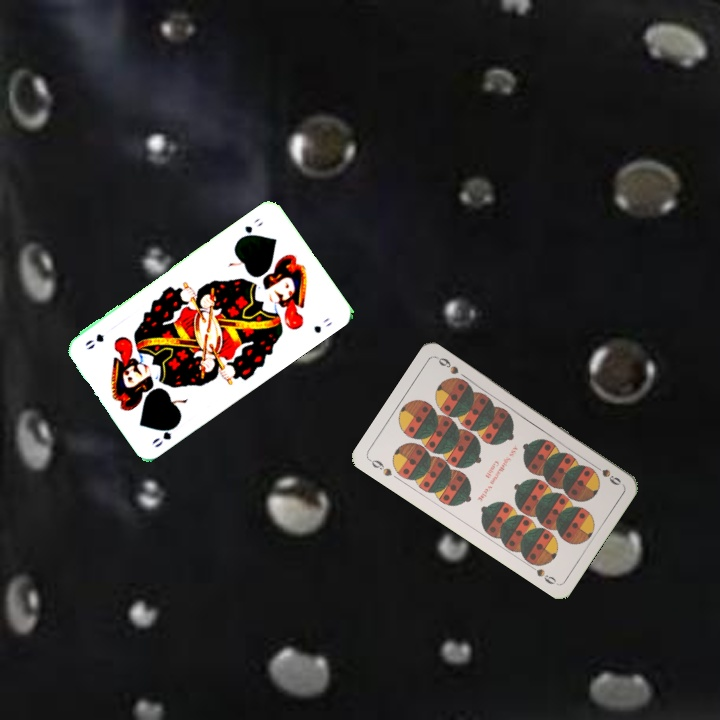GO: (148, 418, 182, 450), (235, 214, 266, 243)
S9: (588, 459, 624, 488), (365, 455, 394, 479)
